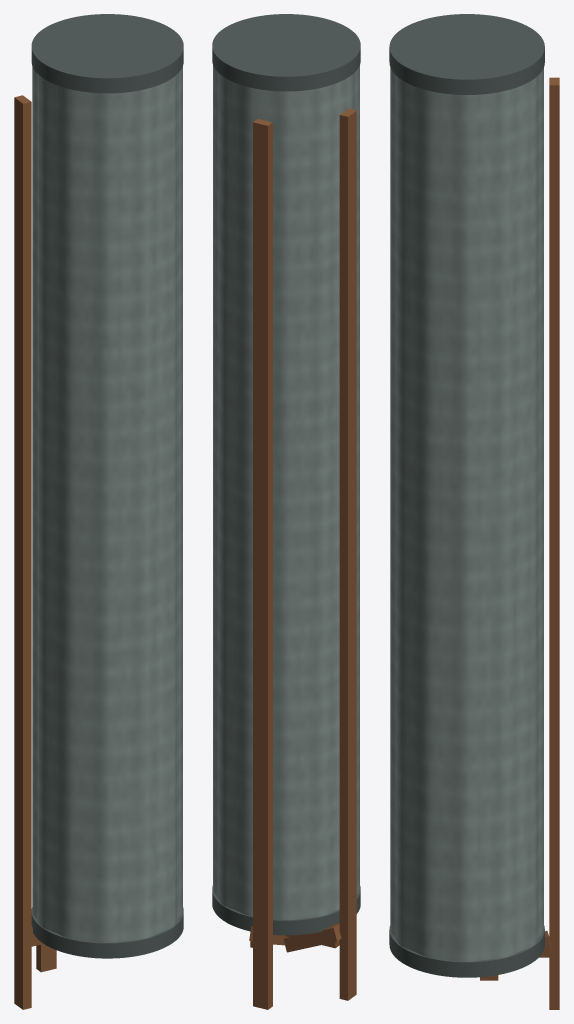
3 renders of one model, left to right at view 1: azimuth 30°, elevation 25°; view 2: azimuth 150°, elevation 25°; view 3: azimuth 270°, elevation 25°, orthographic. The views are drawn at different scales.
Parts seen in each view (by area): view 1: column-core, x-rail, column-upper-cap, column-lower-cap, z-rail; view 2: column-core, z-rail, x-rail, column-upper-cap, column-lower-cap, x-brace, x-arm; view 3: column-core, column-upper-cap, z-rail, column-lower-cap.
Boxes of the visible parts, x1=… form: column-core: x1=32, y1=66, x2=182, y2=942; x-rail: x1=14, y1=95, x2=31, y2=1009; column-upper-cap: x1=31, y1=14, x2=183, y2=93; column-lower-cap: x1=31, y1=907, x2=183, y2=958; z-rail: x1=36, y1=945, x2=56, y2=972; column-core: x1=213, y1=65, x2=359, y2=920; z-rail: x1=253, y1=119, x2=272, y2=1009; x-rail: x1=339, y1=108, x2=356, y2=1000; column-upper-cap: x1=212, y1=14, x2=360, y2=91; column-lower-cap: x1=212, y1=885, x2=360, y2=935; x-brace: x1=283, y1=923, x2=341, y2=952; x-arm: x1=285, y1=931, x2=339, y2=948; column-core: x1=390, y1=67, x2=543, y2=961; column-upper-cap: x1=389, y1=14, x2=544, y2=94; z-rail: x1=549, y1=77, x2=559, y2=1009; column-lower-cap: x1=389, y1=925, x2=544, y2=977.
Size of the model in its own units: 0.35 by 2.2 by 0.35.
Materials: 8 (1 with a texture image).
